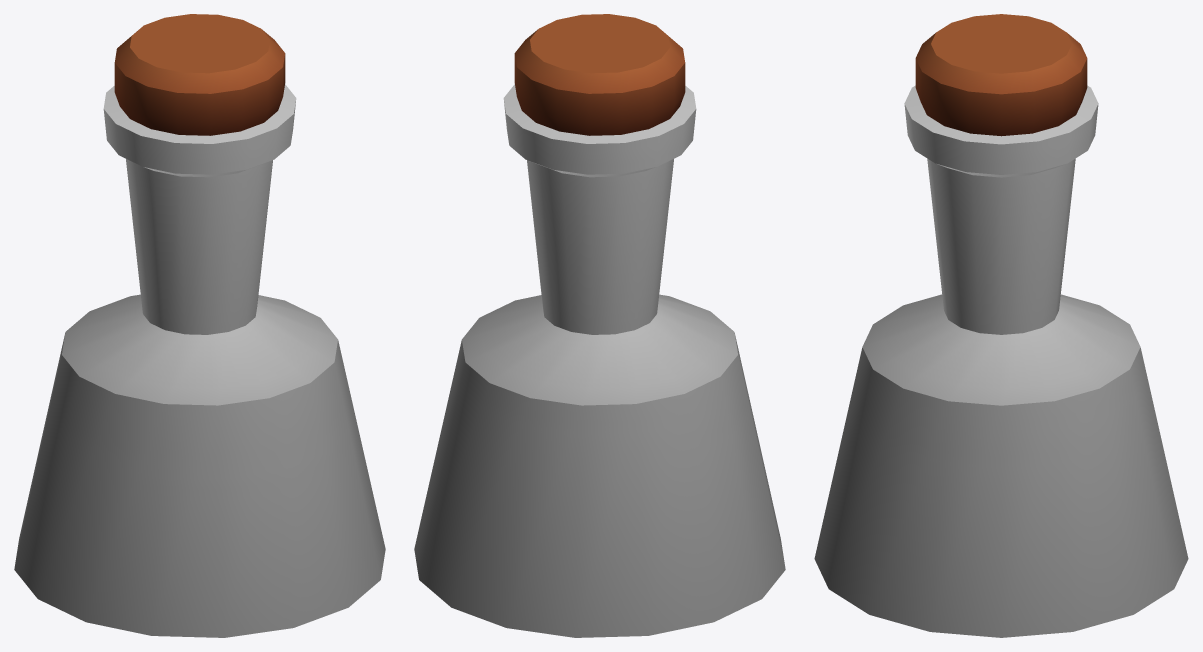
The model's file is Posion-1.fbx.
3 renders of one model, left to right at view 1: azimuth 30°, elevation 25°; view 2: azimuth 150°, elevation 25°; view 3: azimuth 270°, elevation 25°, orthographic.
Visible parts, largest first — view 1: Posion-1; view 2: Posion-1; view 3: Posion-1.
Boxes of the visible parts, left/top/right/bottom form: Posion-1: left=14, top=14, right=385, bottom=637; Posion-1: left=414, top=14, right=785, bottom=637; Posion-1: left=814, top=14, right=1188, bottom=637.
Bounding box in the file's own units: 53.17 × 80.79 × 53.17.
